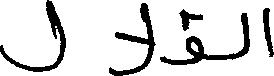X: (0, 0, 64, 75), (108, 0, 153, 75), (186, 7, 202, 69), (262, 3, 273, 61), (240, 8, 249, 61)
